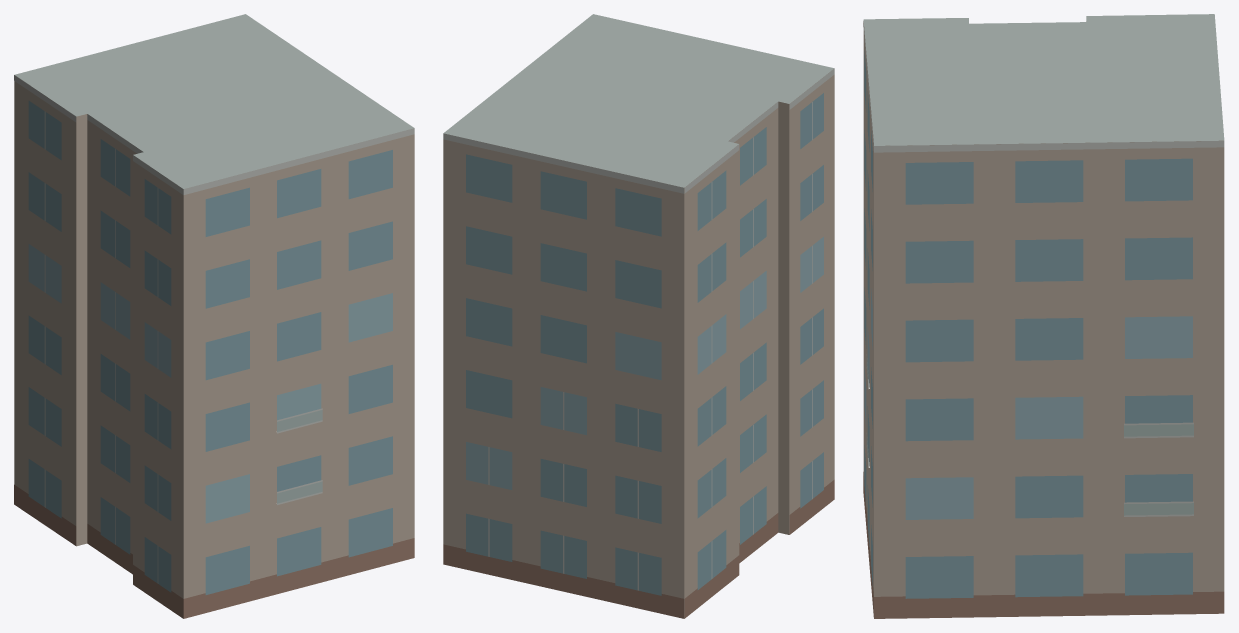
File: survey-upis-32743443.glb
3 views of the same model, side by side, from view 1: azimuth 30°, elevation 25°; view 2: azimuth 150°, elevation 25°; view 3: azimuth 270°, elevation 25° (orthographic). The views are drawn at different scales.
Parts seen in each view (by area): view 1: survey-upis-32743443.tmp; view 2: survey-upis-32743443.tmp; view 3: survey-upis-32743443.tmp.
Part boxes in pixels (box(x1,y1,x2,y2)): survey-upis-32743443.tmp: box(14, 14, 414, 618); survey-upis-32743443.tmp: box(443, 14, 834, 618); survey-upis-32743443.tmp: box(863, 14, 1224, 618).
Size of the model in its own units: 10.36 by 17.3 by 11.98.
